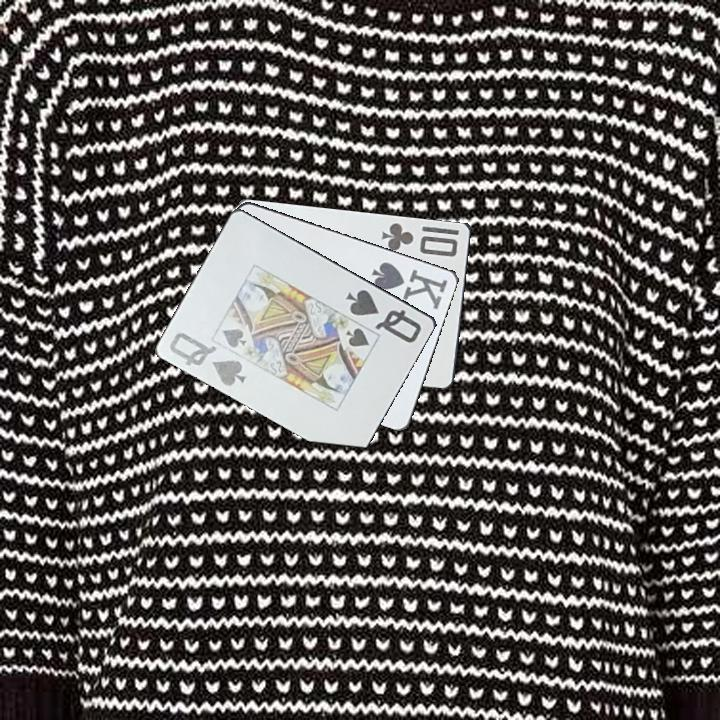Ks: (368, 258, 451, 310)
Qs: (342, 285, 425, 346), (166, 328, 249, 389)
Tc: (378, 219, 461, 260)
